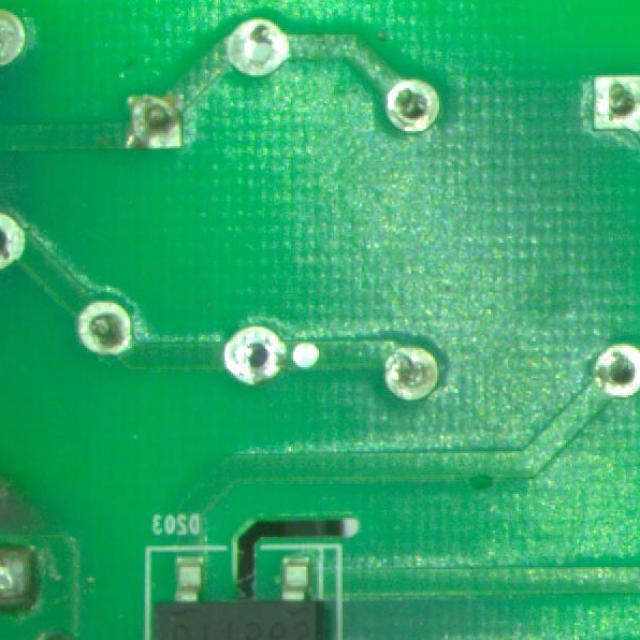oppostie_direction: (225, 19, 289, 76), (224, 326, 286, 384), (125, 95, 181, 149), (385, 346, 439, 399), (386, 80, 439, 132), (79, 303, 131, 354), (594, 76, 640, 131), (594, 344, 640, 397)
